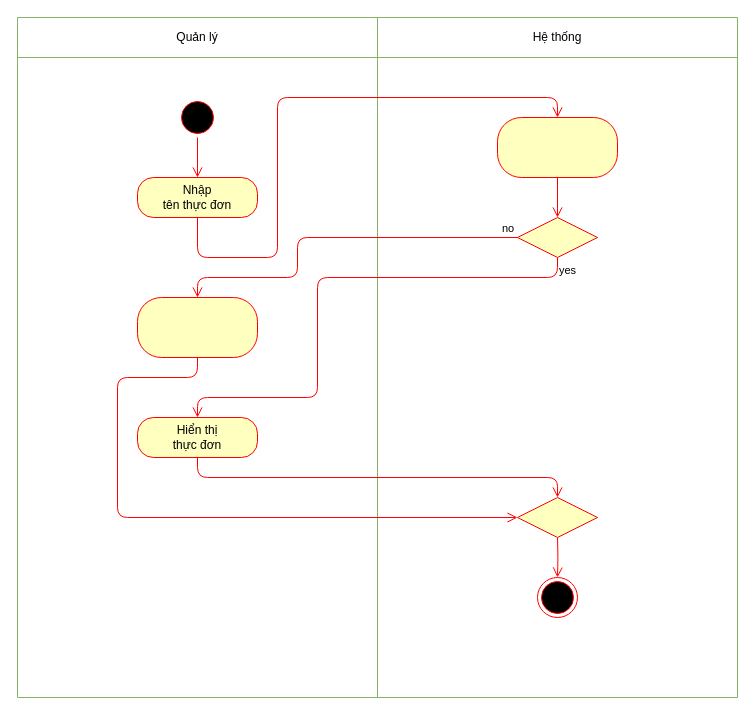
This 756x716 diagram has some shape labels left out. The shapes that lost their labels are listed below. From the top down, each one's box as (x1, y1, x2, y2) in pixels, then its label:
(496, 116, 618, 178): Tìm được thực đơn phù hợp
(136, 296, 258, 358): Thông báo không tìm thấy thực đơn
